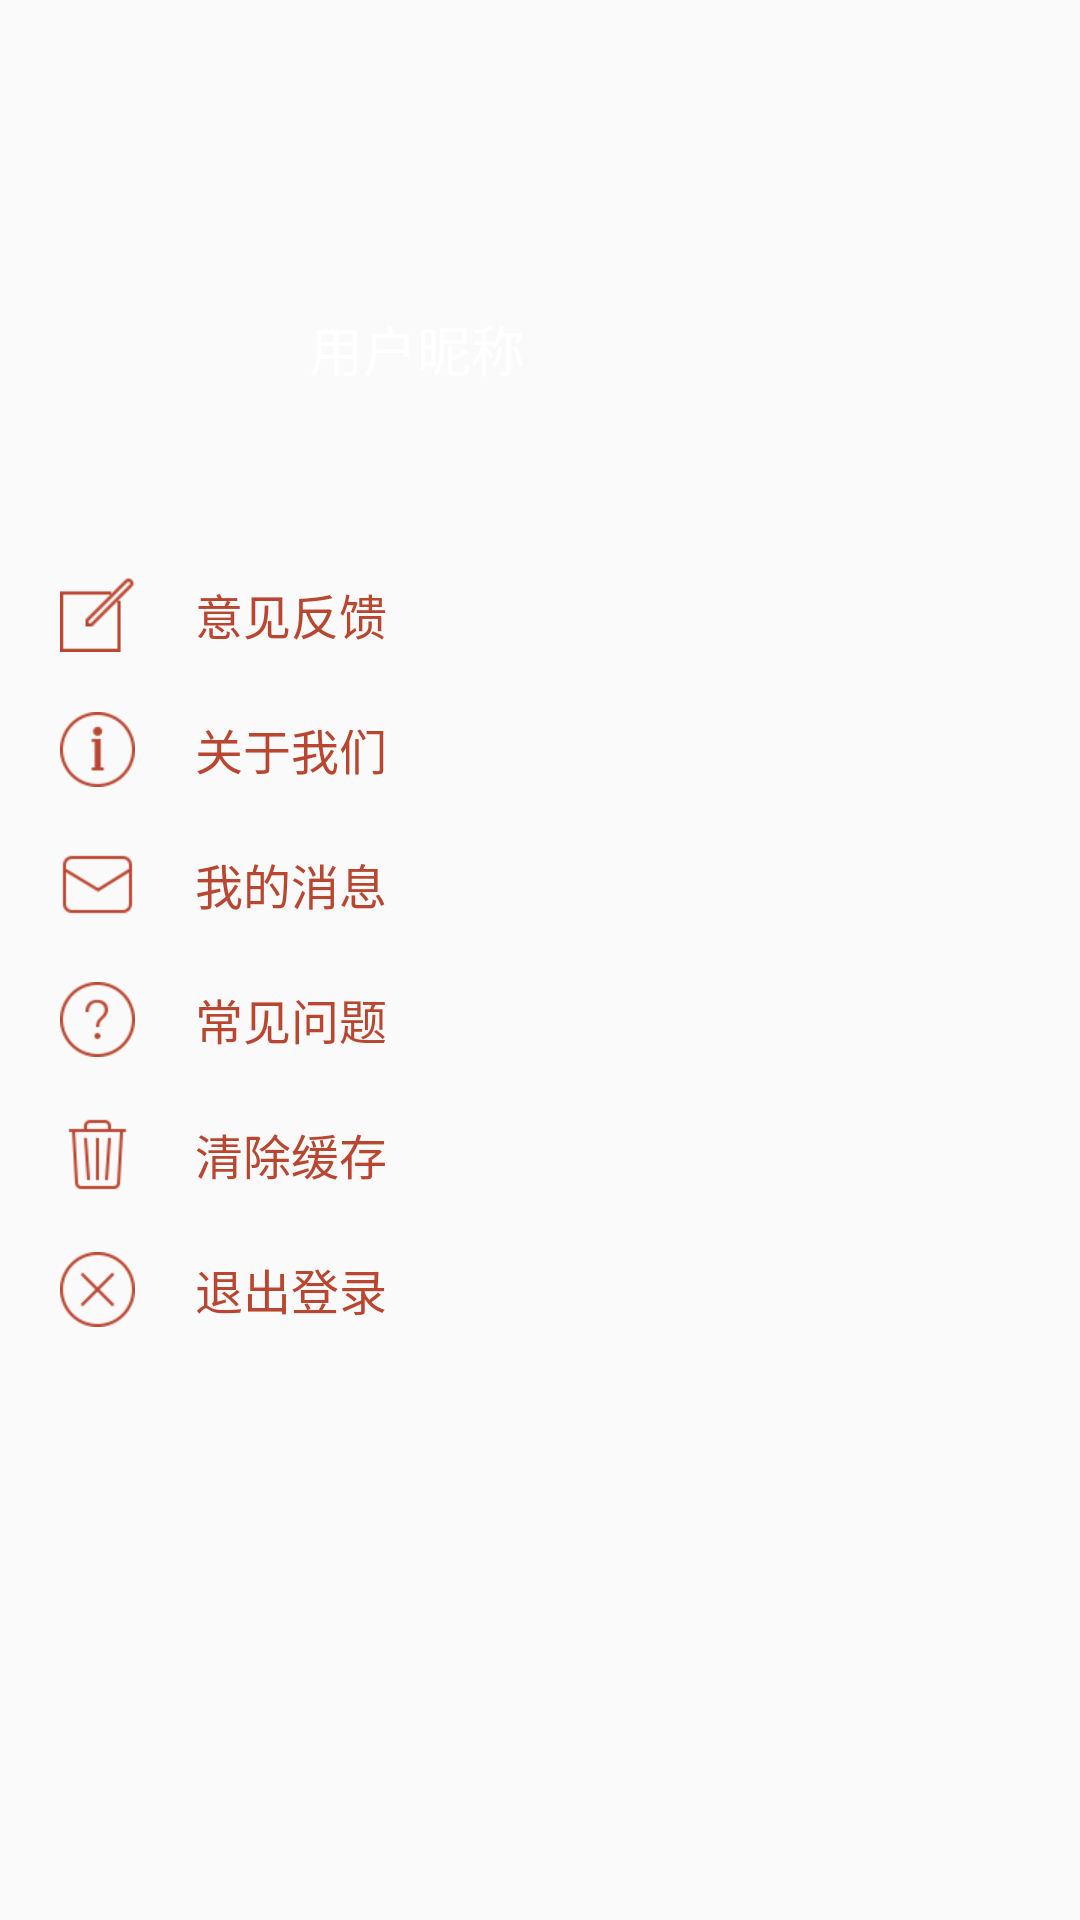

Point at icon controls on the screen. Image size 1080*1920, points as [x,y].
help: [97,1019]
left menu about: [97,749]
left menu feedback: [97,615]
left menu trash: [97,1154]
message: [97,884]
